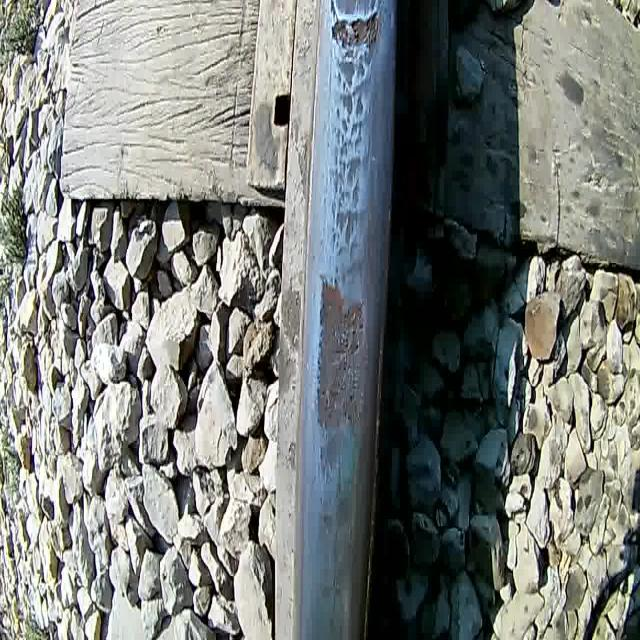Spallings: (314, 271, 369, 439), (322, 0, 392, 51)
Squats: (321, 0, 389, 262), (315, 482, 356, 607), (316, 426, 348, 480)
